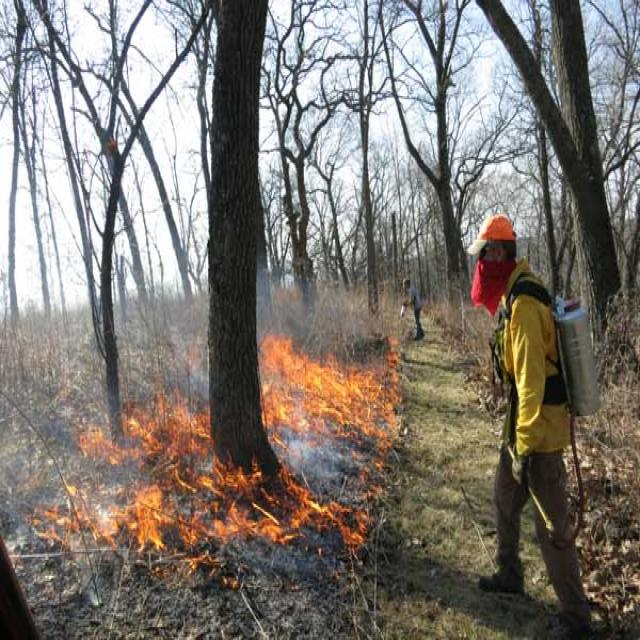Fire: (257, 336, 399, 501)
